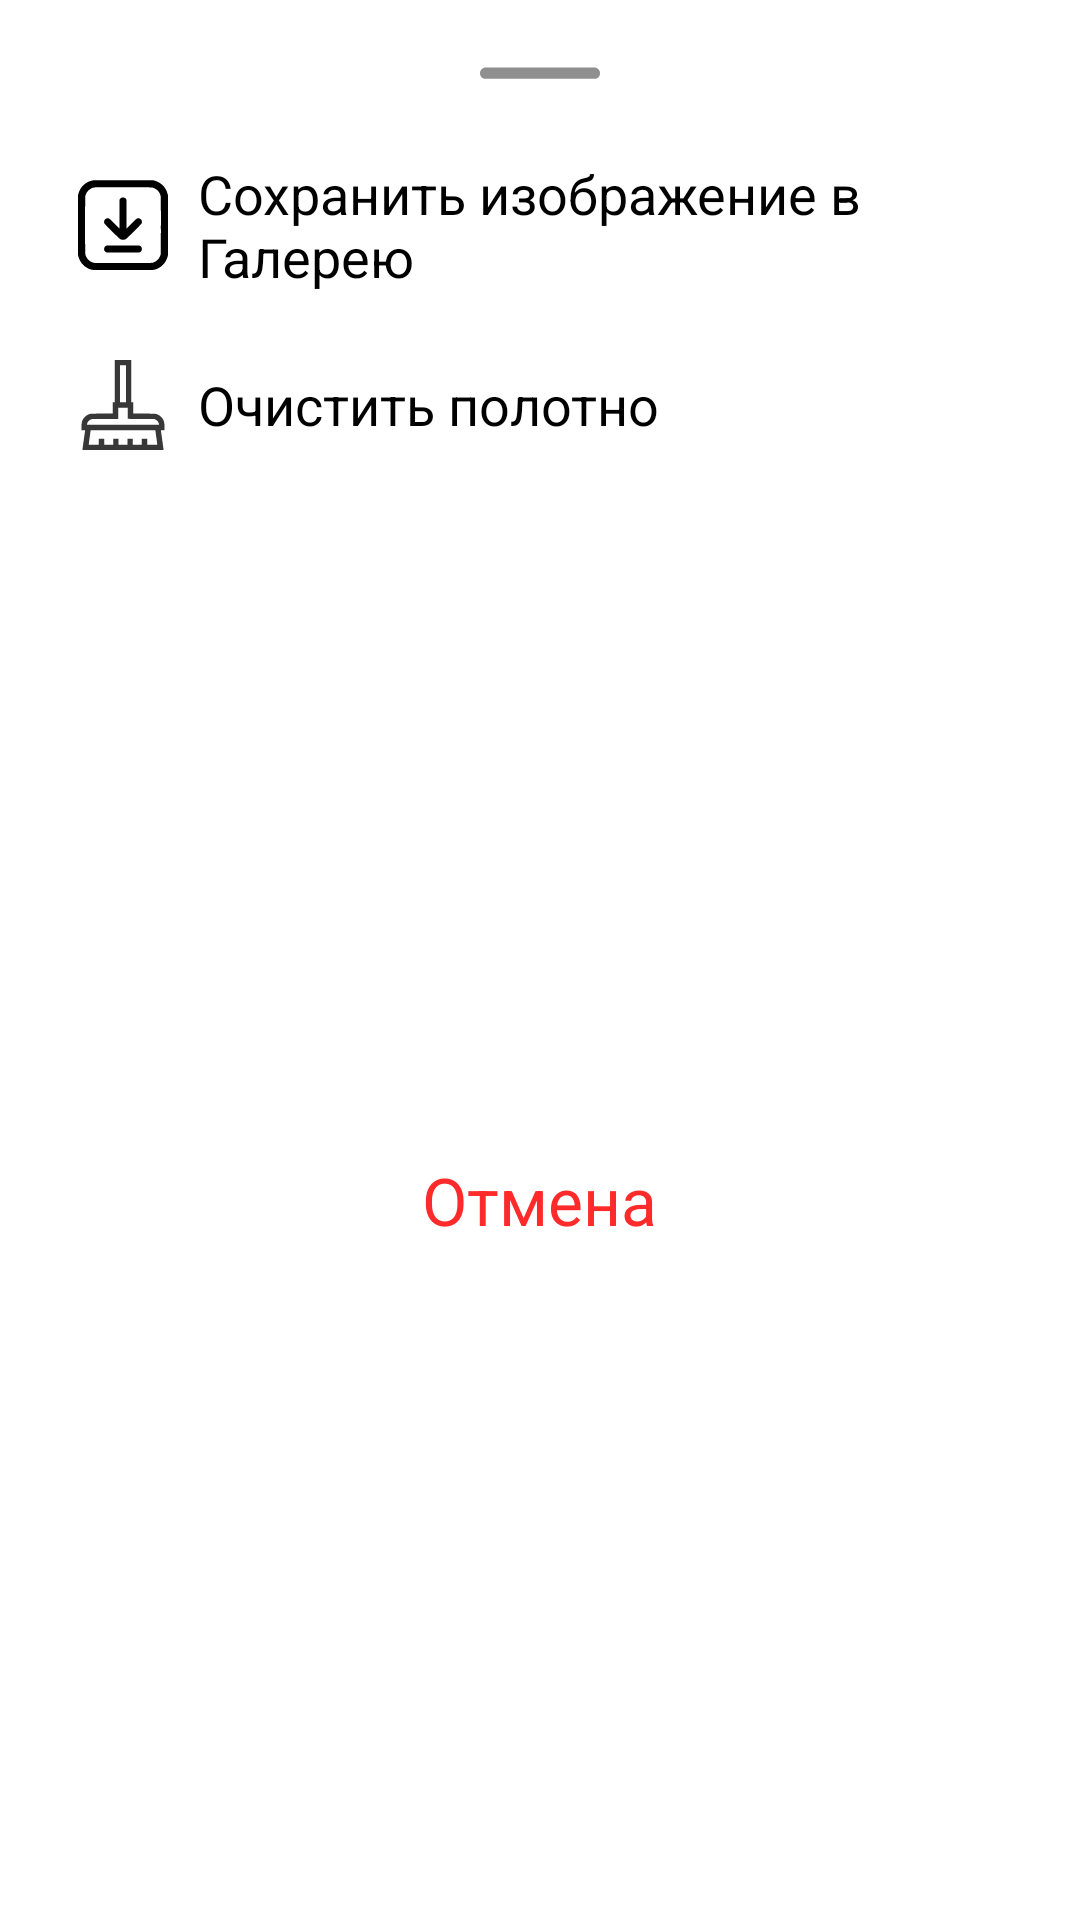

Where to tap for icons on this 1080px×1920px app screen, as (x,y):
broom: (123,405)
download: (123,225)
